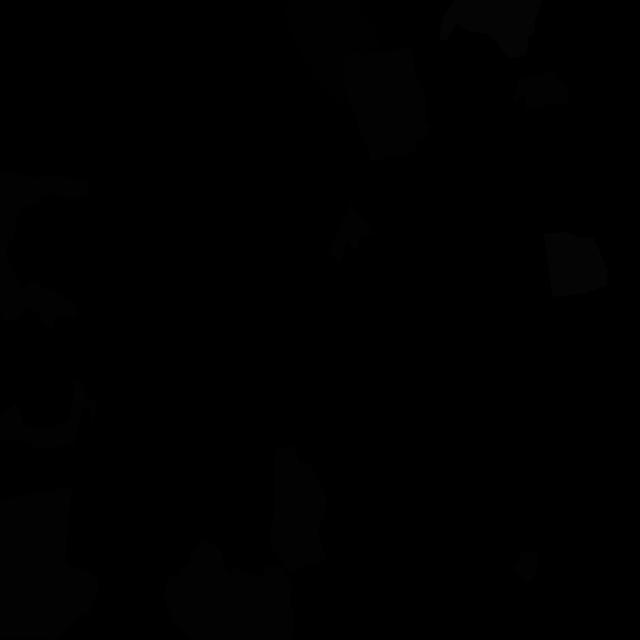cardboard: (0, 486, 99, 639), (0, 171, 89, 329), (164, 537, 294, 640), (343, 48, 432, 162), (270, 445, 326, 573), (0, 380, 96, 450), (328, 202, 374, 265), (513, 71, 568, 109), (512, 551, 538, 580)
rigid_plastic: (282, 0, 381, 105)
soft_plastic: (440, 0, 542, 58), (544, 232, 608, 297)
